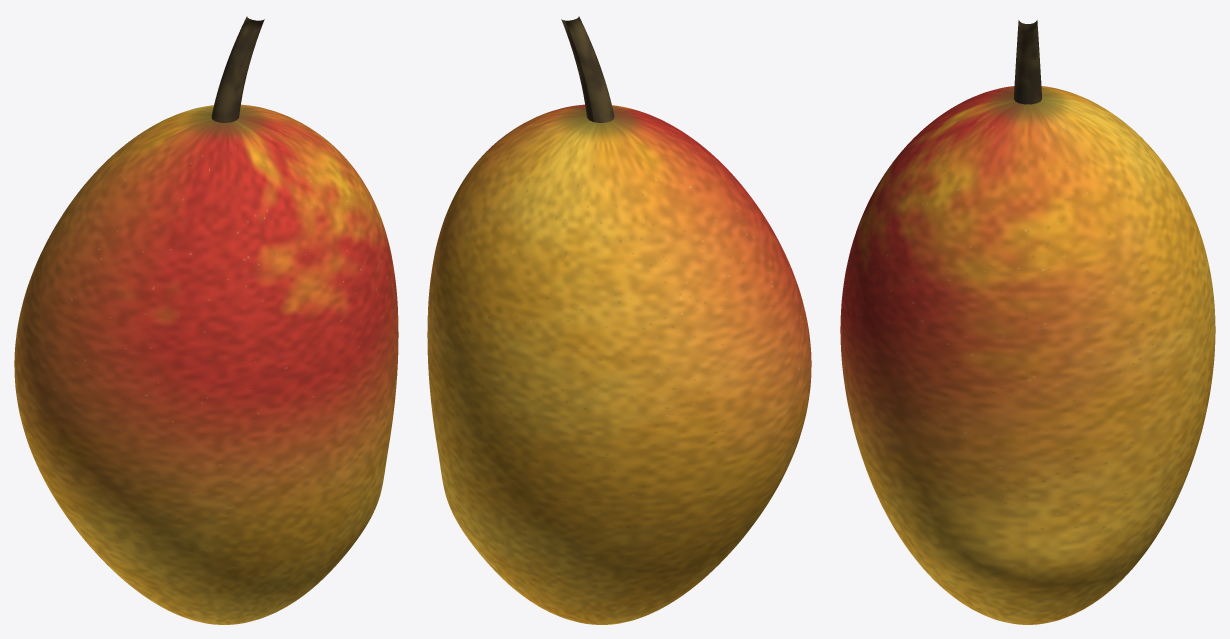
File: mangue-auguste.glb
The picture shows the model from 3 angles, left to right: view 1: azimuth 30°, elevation 25°; view 2: azimuth 150°, elevation 25°; view 3: azimuth 270°, elevation 25°; orthographic projection. The views are drawn at different scales.
Parts seen in each view (by area): view 1: entier_peau, moitie_A_peau, moitie_B_peau, entier_extra0; view 2: entier_peau, moitie_B_peau, moitie_A_peau, entier_extra0; view 3: entier_peau, moitie_A_peau, moitie_B_peau, entier_extra0.
Boxes of the visible parts, x1,y1,x2,y2 form: entier_peau: (14, 104, 398, 624); moitie_A_peau: (40, 113, 398, 624); moitie_B_peau: (14, 105, 305, 565); entier_extra0: (211, 16, 264, 122); entier_peau: (427, 104, 811, 624); moitie_B_peau: (427, 113, 785, 624); moitie_A_peau: (520, 105, 811, 584); entier_extra0: (561, 16, 614, 122); entier_peau: (840, 86, 1215, 624); moitie_A_peau: (840, 86, 1026, 624); moitie_B_peau: (1029, 87, 1215, 624); entier_extra0: (1013, 20, 1042, 104).
Bounding box in the file's own units: 0.0775 × 0.13 × 0.0721.
3 materials, 3 textured.
